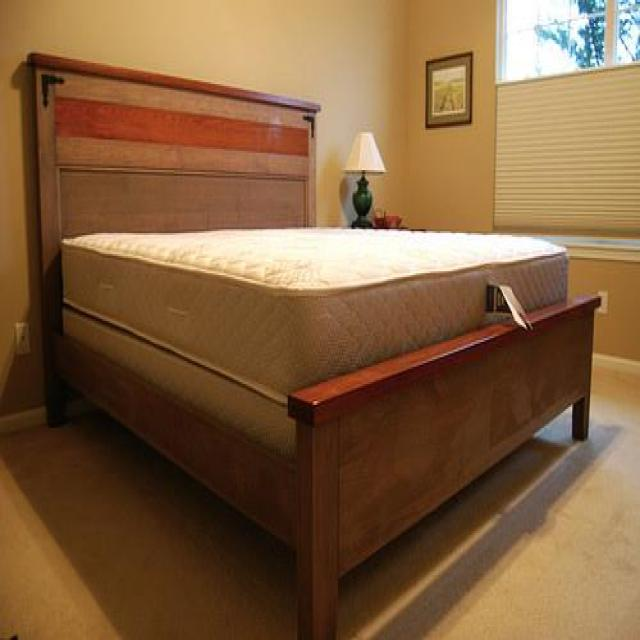bed: (27, 49, 604, 640)
